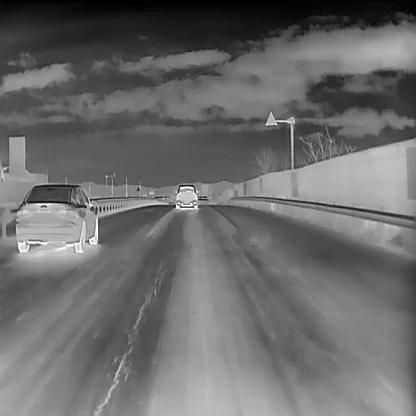car: (16, 182, 99, 252), (173, 183, 199, 210)
